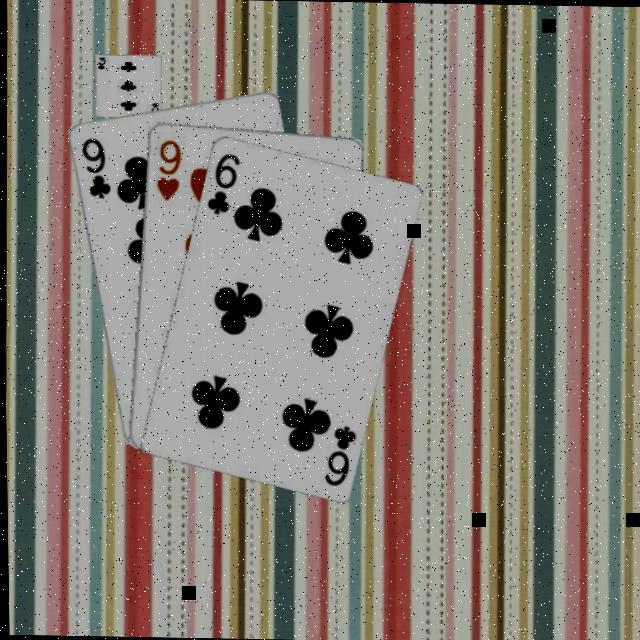6C: (200, 147, 241, 215), (316, 419, 355, 486)
9C: (74, 132, 112, 200)
9H: (149, 133, 181, 201)
